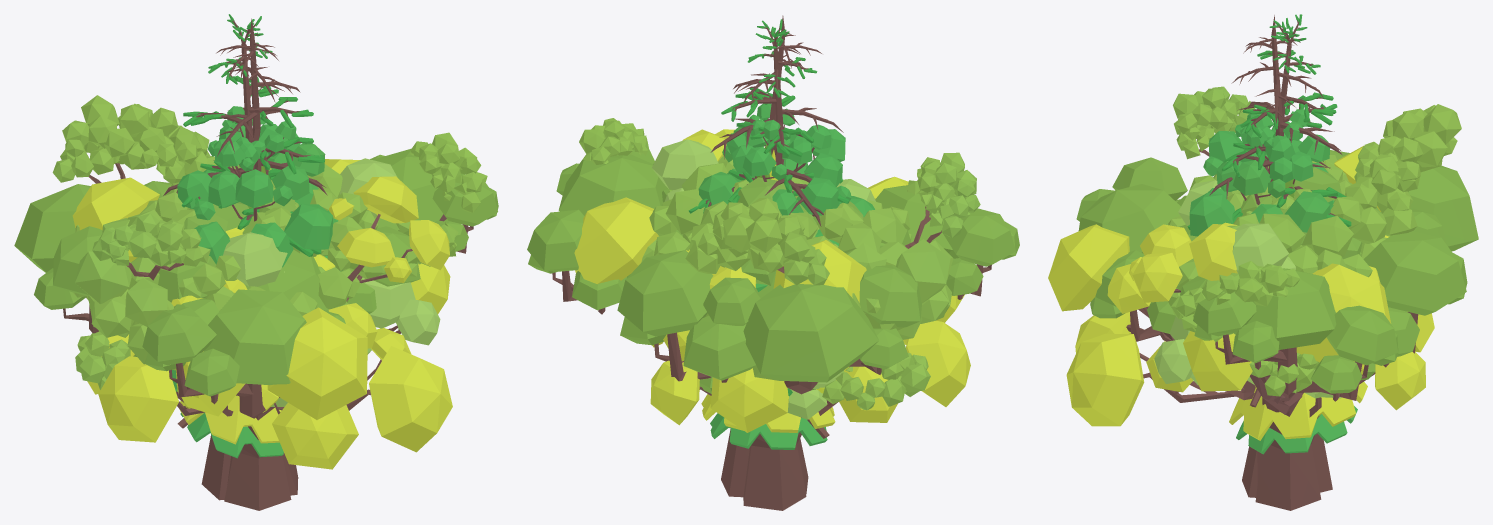
File: r3f_trees-transformed.glb
3 views of the same model, side by side, from view 1: azimuth 30°, elevation 25°; view 2: azimuth 150°, elevation 25°; view 3: azimuth 270°, elevation 25° (orthographic).
Parts seen in each view (by area): view 1: LP_tree01, Big_tree01; view 2: LP_tree01, Big_tree01; view 3: LP_tree01, Big_tree01.
Boxes of the visible parts, x1=… form: LP_tree01: x1=14, y1=14, x2=498, y2=510; Big_tree01: x1=52, y1=95, x2=487, y2=389; LP_tree01: x1=527, y1=15, x2=1019, y2=510; Big_tree01: x1=579, y1=118, x2=980, y2=410; LP_tree01: x1=1048, y1=14, x2=1478, y2=510; Big_tree01: x1=1167, y1=86, x2=1461, y2=414.
Bounding box in the file's own units: 27.8 × 31.21 × 25.88.
Materials: 1 (1 with a texture image).
